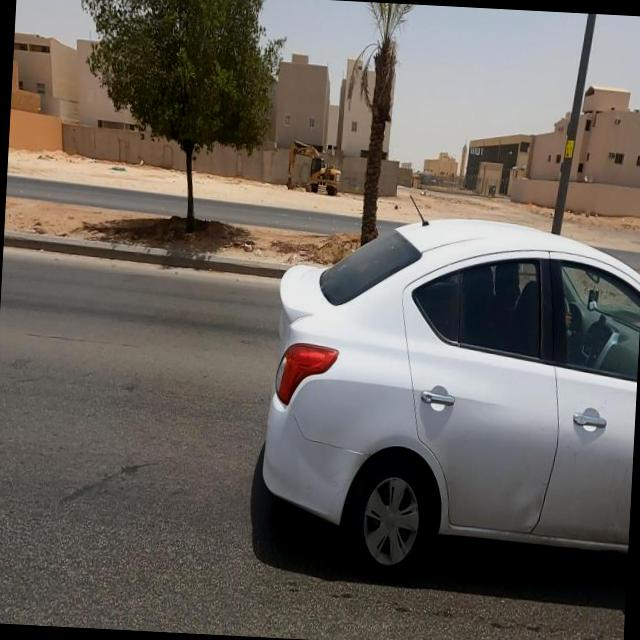debris: (225, 212, 278, 282)
